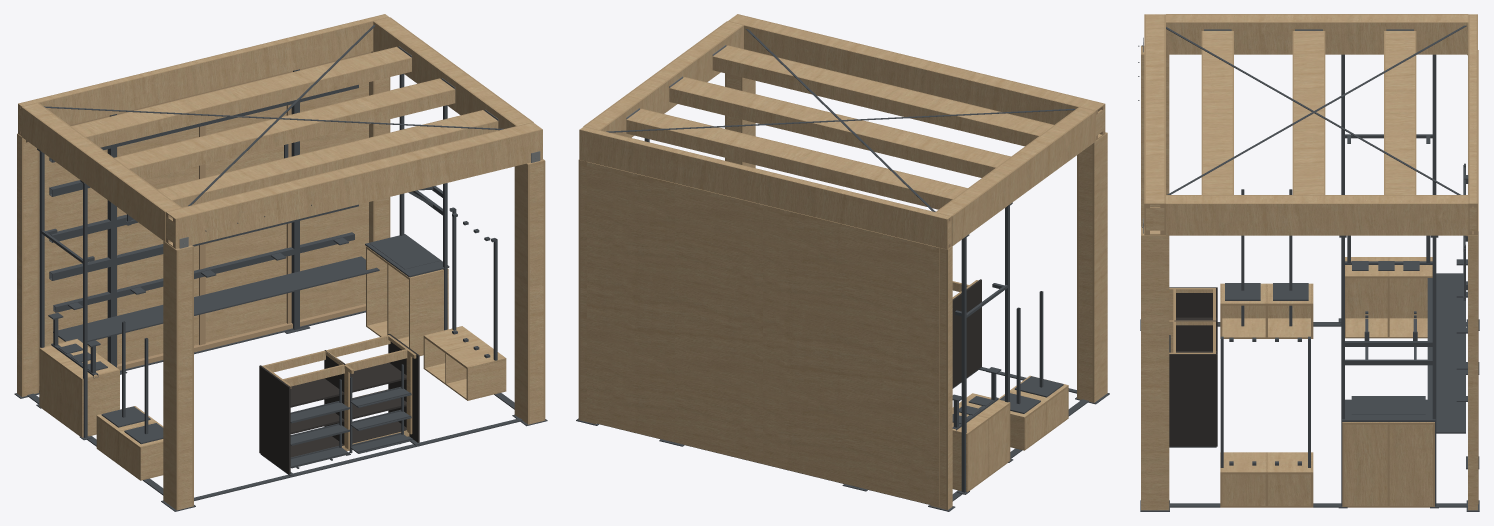
File: HH_Frame.glb
3 views of the same model, side by side, from view 1: azimuth 30°, elevation 25°; view 2: azimuth 150°, elevation 25°; view 3: azimuth 270°, elevation 25° (orthographic). The views are drawn at different scales.
Parts seen in each view (by area): view 1: Ply | rear diaphragm 2, Ply | rear diaphragm 0, Ply | front header near web 2, Ply | rear diaphragm 3, Ply | rear header near web 2, Ply | rear diaphragm 1, Exhibit | rear shelf subtop, Ply | slat 01 top closure, Ply | slat 00 top closure, Ply | slat 02 top closure, Ply | front header near web 1, Ply | column 00 cheek -1 (+59 smaller); view 2: Ply | rear diaphragm 0, Ply | rear diaphragm 1, Ply | rear diaphragm 2, Ply | rear diaphragm 3, Ply | rear header far web 1, Ply | front header far web 1, Ply | slat 01 top closure, Ply | slat 02 top closure, Ply | slat 00 top closure, Ply | rear header far web 2, Ply | column 00 cheek -1, Ply | column 00 return 1 (+28 smaller); view 3: Ply | column 10 cheek 1, Box | exhibit spine 3, Ply | side header 1 far web 1, Exhibit | rear shelf subtop, Ply | slat 01 top closure, Ply | slat 00 top closure, Ply | slat 02 top closure, Ply | side header 0 far web 1, Counter fit | end cheek.001, Ply | side header 1 far web 2, Ply | front header top closure, Box | exhibit spine 1 (+30 smaller).
Part boxes in pixels (box(x1,y1,x2,y2)): Ply | rear diaphragm 2: box(205, 105, 286, 342); Ply | rear diaphragm 0: box(39, 149, 107, 383); Ply | front header near web 2: box(318, 129, 542, 213); Ply | rear diaphragm 3: box(300, 82, 368, 319); Ply | rear header near web 2: box(165, 17, 388, 101); Ply | rear diaphragm 1: box(118, 127, 198, 364); Exhibit | rear shelf subtop: box(53, 256, 379, 342); Ply | slat 01 top closure: box(115, 79, 453, 168); Ply | slat 00 top closure: box(158, 110, 497, 199); Ply | slat 02 top closure: box(72, 47, 410, 136); Ply | front header near web 1: box(175, 184, 318, 248); Ply | column 00 cheek -1: box(163, 241, 178, 510); Ply | rear diaphragm 0: box(851, 226, 939, 506); Ply | rear diaphragm 1: box(763, 204, 850, 485); Ply | rear diaphragm 2: box(675, 183, 762, 463); Ply | rear diaphragm 3: box(587, 162, 674, 442); Ply | rear header far web 1: box(715, 162, 947, 249); Ply | front header far web 1: box(863, 54, 1095, 124); Ply | slat 01 top closure: box(670, 77, 1009, 167); Ply | slat 02 top closure: box(627, 109, 966, 198); Ply | slat 00 top closure: box(714, 46, 1053, 135); Ply | rear header far web 2: box(579, 129, 715, 192); Ply | column 00 cheek -1: box(1092, 132, 1107, 402); Ply | column 00 return 1: box(1078, 144, 1092, 402); Ply | column 10 cheek 1: box(1141, 235, 1169, 510); Box | exhibit spine 3: box(1344, 424, 1432, 505); Ply | side header 1 far web 1: box(1166, 203, 1356, 235); Exhibit | rear shelf subtop: box(1427, 273, 1465, 433); Ply | slat 01 top closure: box(1294, 31, 1323, 194); Ply | slat 00 top closure: box(1203, 31, 1232, 194); Ply | slat 02 top closure: box(1385, 31, 1414, 194); Ply | side header 0 far web 1: box(1166, 22, 1356, 54); Counter fit | end cheek.001: box(1169, 354, 1217, 446); Ply | side header 1 far web 2: box(1356, 203, 1468, 235); Ply | front header top closure: box(1146, 14, 1164, 204); Box | exhibit spine 1: box(1345, 278, 1427, 318).
Bounding box in the file's own units: 3.99 × 2.97 × 3.
Materials: 7 (2 with a texture image).
